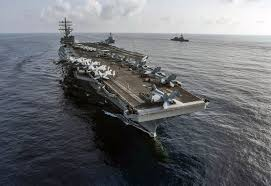tau_muctieu: (57, 25, 201, 148), (170, 33, 190, 43)
